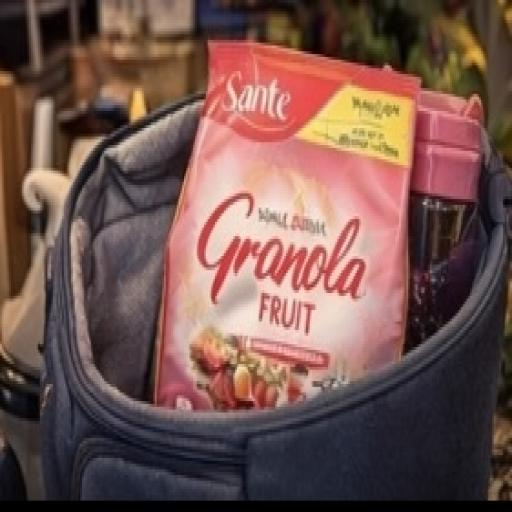granola: (154, 21, 425, 454)
